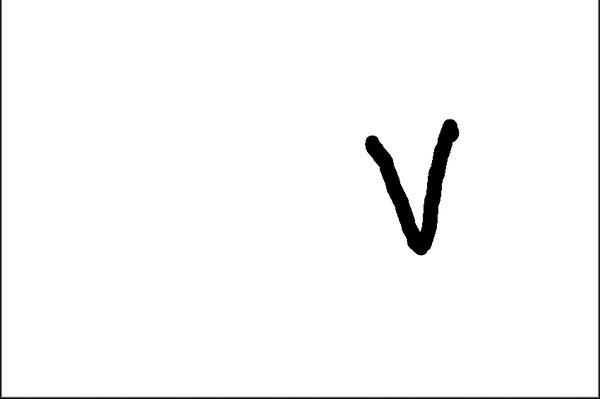V: (358, 117, 469, 258)
